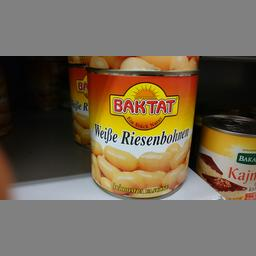beans: (84, 66, 198, 196)
